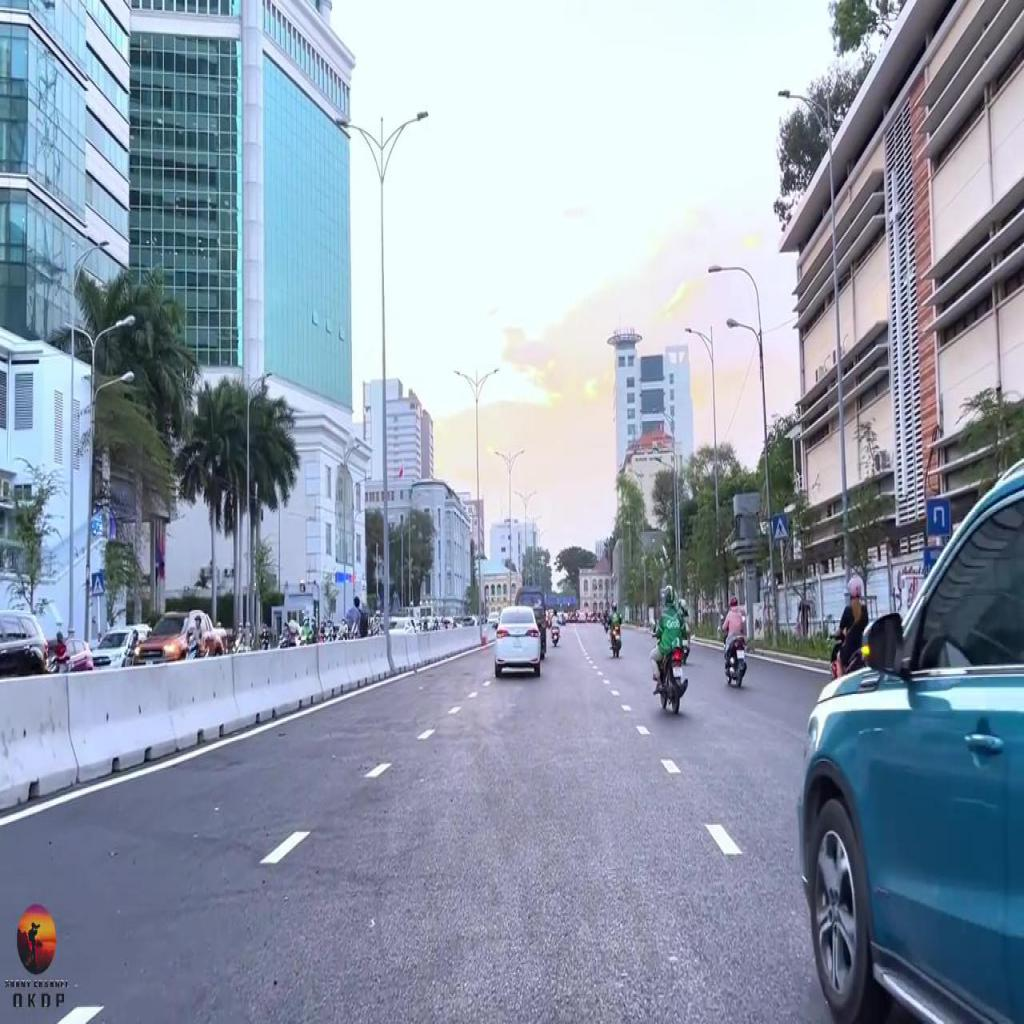cho_quay_xe: (926, 501, 950, 536)
duong_nguoi_di_bo_sang_ngang: (772, 516, 790, 544)
